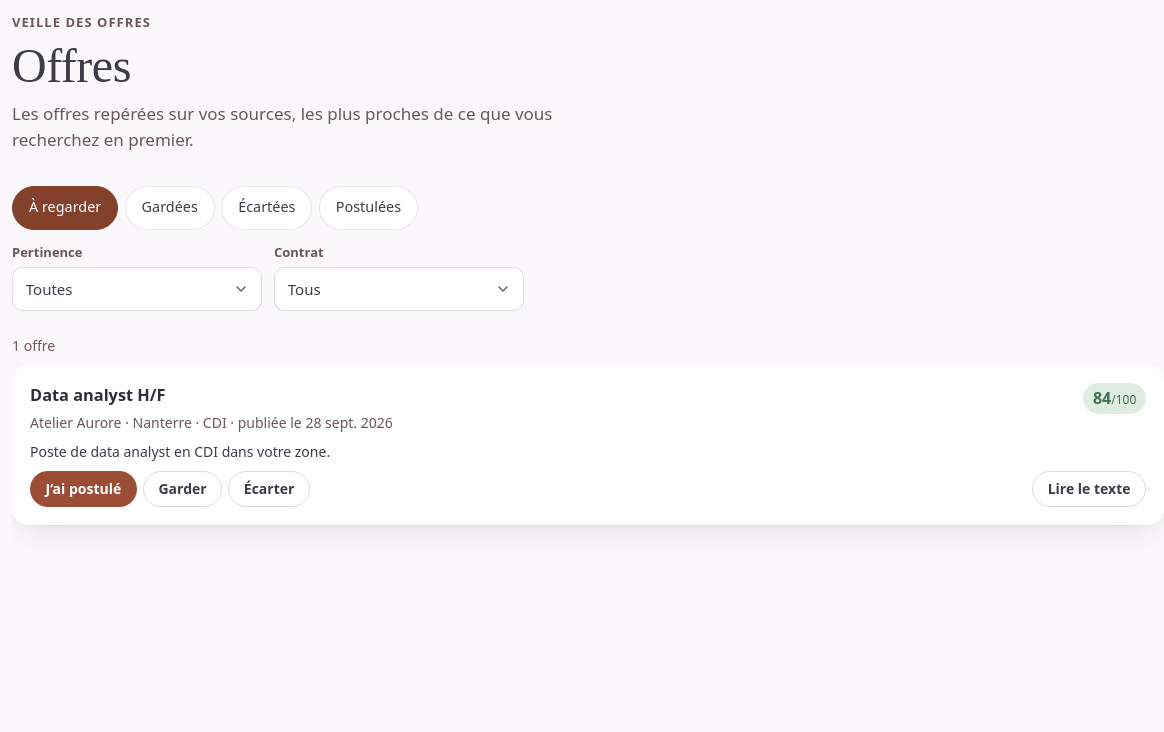
Test: OffersPage › [EF-VEI-19] shows why the API refused, on the offer itself
Click the button "J’ai postulé" at [83, 489], box [30,471,137,507]
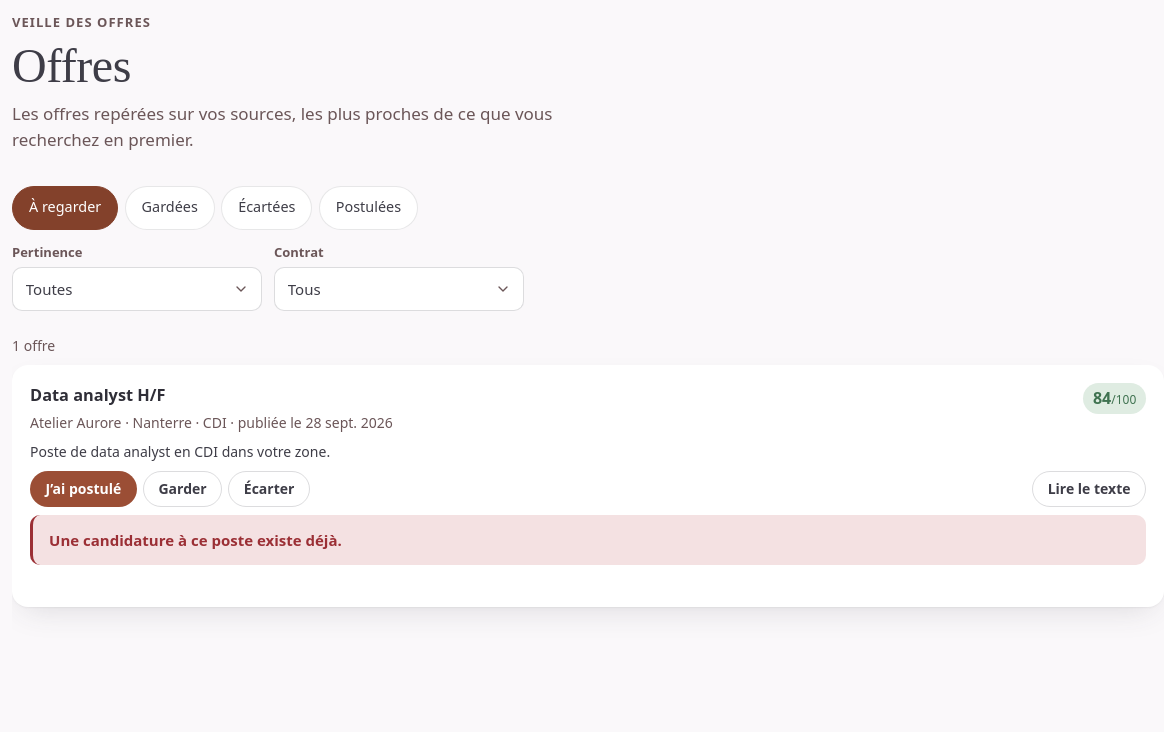
Check: the message "Une candidature à ce poste existe déjà." is shown, box [30,515,1146,565]
